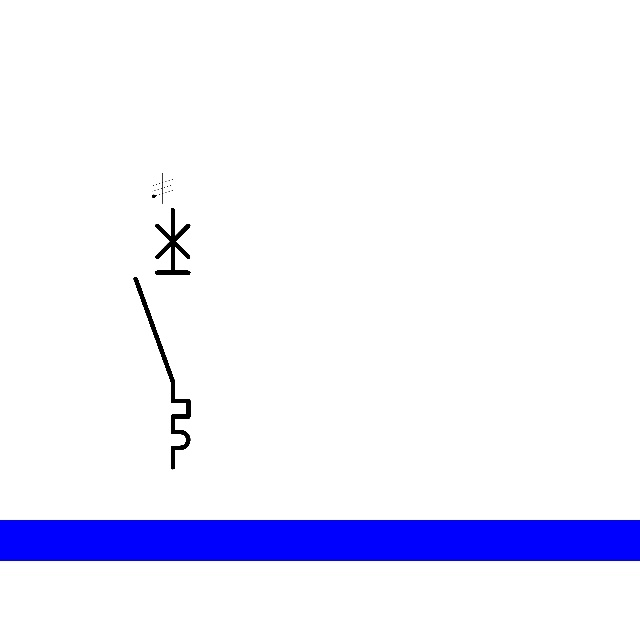interruptor_termomagnetico: (129, 203, 195, 474)
